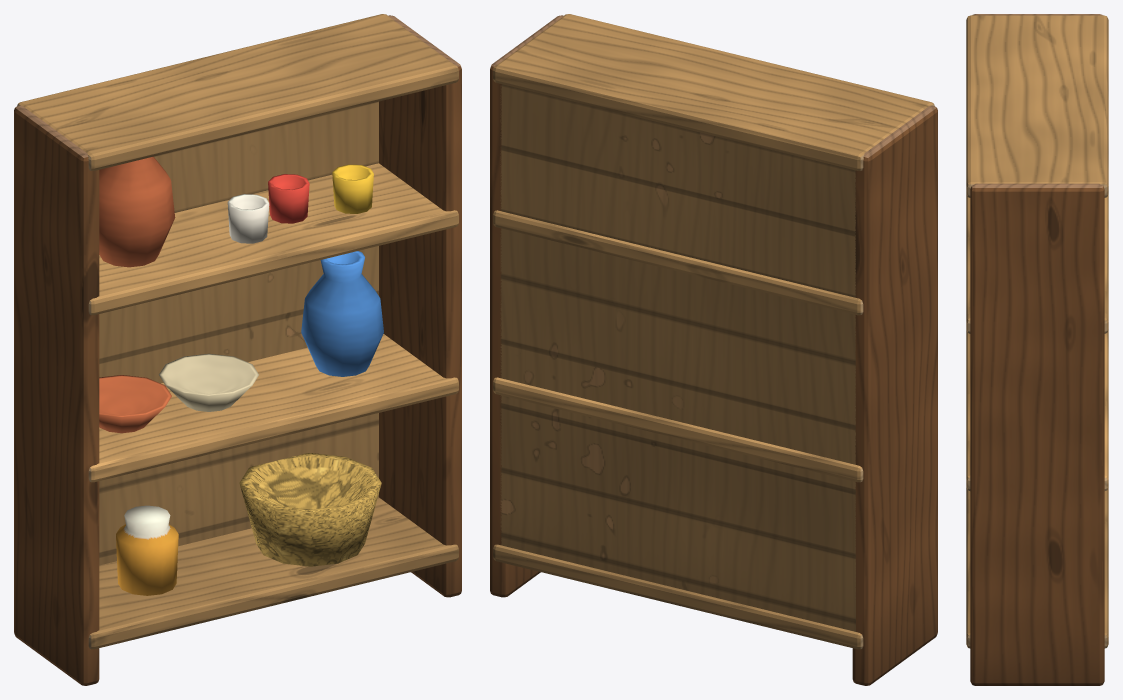
The model's file is camp_shelf.glb.
The picture shows the model from 3 angles, left to right: view 1: azimuth 30°, elevation 25°; view 2: azimuth 150°, elevation 25°; view 3: azimuth 270°, elevation 25°; orthographic projection. The views are drawn at different scales.
Parts seen in each view (by area): view 1: CampShelf; view 2: CampShelf; view 3: CampShelf.
Boxes of the visible parts, x1,y1,x2,y2 form: CampShelf: (14, 14, 461, 685); CampShelf: (490, 14, 937, 685); CampShelf: (966, 14, 1108, 685).
Bounding box in the file's own units: 1.05 × 1.4 × 0.36.
1 material, 1 textured.
